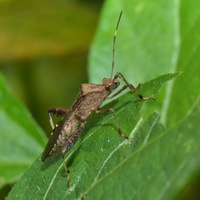insect: (41, 11, 155, 186)
